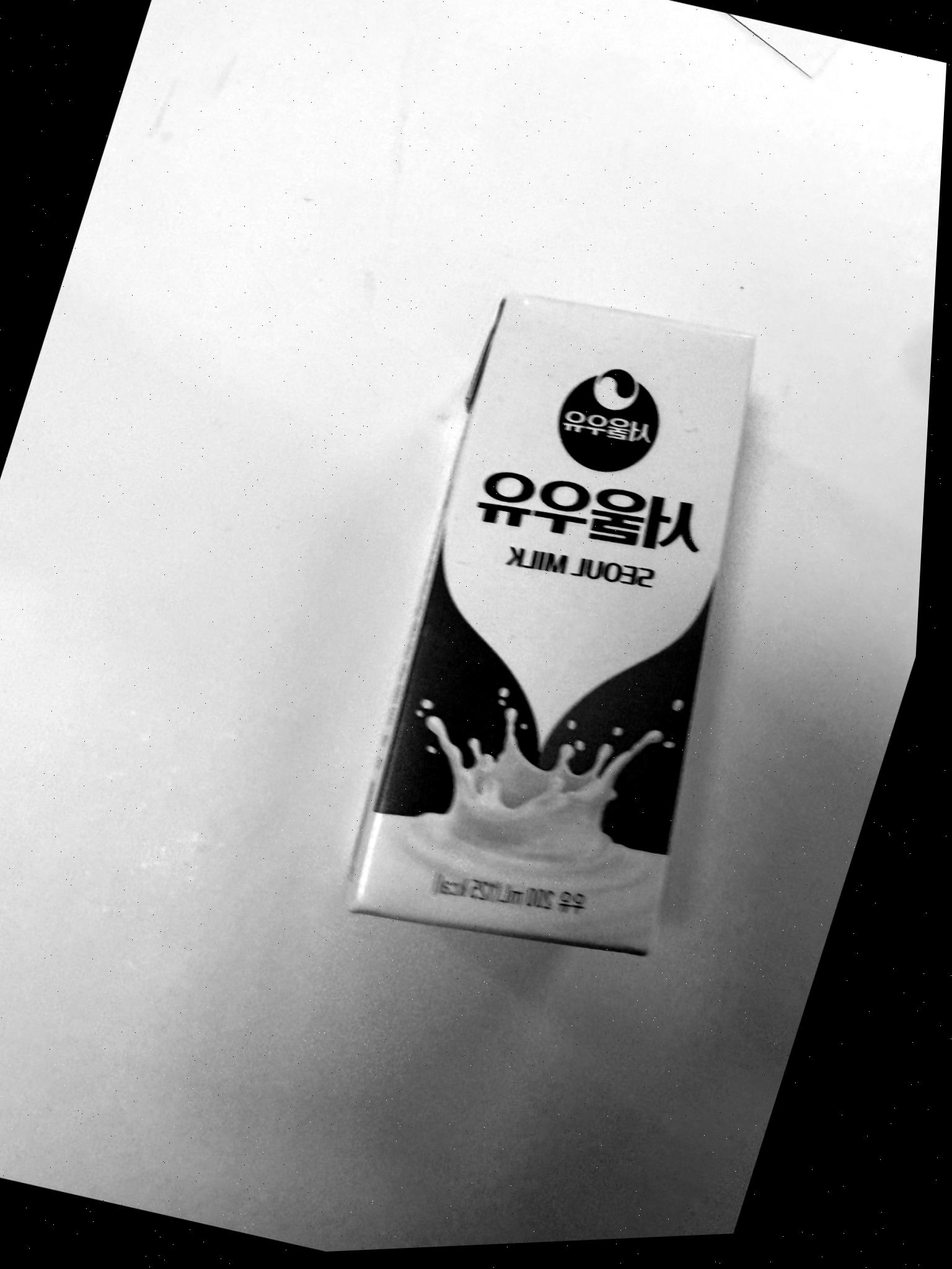milk_green: (338, 295, 758, 949)
